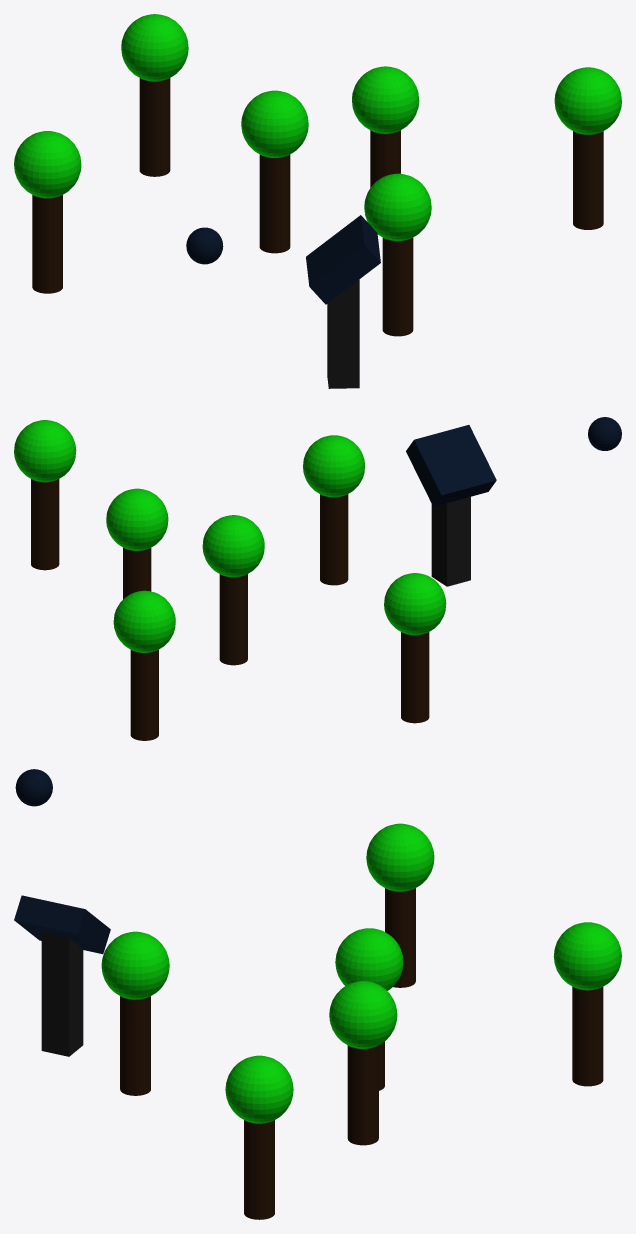
File: exercise20015.obj
3 views of the same model, one above another, from view 1: azimuth 30°, elevation 25°; view 2: azimuth 150°, elevation 25°; view 3: azimuth 270°, elevation 25° (orthographic). The views are drawn at different scales.
Parts seen in each view (by area): view 1: Cube.001, Sphere.003, Sphere.005, Sphere, Sphere.002, Sphere.006, Sphere.004, Cube, Cylinder.002, Cylinder.005, Cylinder.004, Cylinder.003 (+4 smaller); view 2: Cube.001, Cube, Sphere.005, Sphere, Sphere.002, Sphere.006, Sphere.003, Sphere.004, Cylinder.004, Cylinder.006, Cylinder.002, Cylinder.003 (+4 smaller); view 3: Cube, Sphere.003, Sphere.006, Sphere.004, Sphere, Sphere.005, Sphere.002, Cube.001, Cylinder.005, Cylinder, Cylinder.004, Cylinder.003 (+3 smaller).
Part boxes in pixels (x1=…): Cube.001: x1=306, y1=215, x2=380, y2=304; Sphere.003: x1=554, y1=67, x2=621, y2=134; Sphere.005: x1=121, y1=14, x2=188, y2=81; Sphere: x1=352, y1=66, x2=419, y2=133; Sphere.002: x1=241, y1=90, x2=308, y2=157; Sphere.006: x1=14, y1=131, x2=81, y2=198; Sphere.004: x1=364, y1=173, x2=431, y2=240; Cube: x1=327, y1=279, x2=359, y2=388; Cylinder.002: x1=259, y1=154, x2=290, y2=253; Cylinder.005: x1=139, y1=78, x2=170, y2=176; Cylinder.004: x1=382, y1=238, x2=413, y2=336; Cylinder.003: x1=573, y1=131, x2=603, y2=229; Cube.001: x1=406, y1=425, x2=496, y2=506; Cube: x1=431, y1=497, x2=470, y2=586; Sphere.005: x1=113, y1=590, x2=175, y2=652; Sphere: x1=106, y1=488, x2=168, y2=550; Sphere.002: x1=202, y1=515, x2=264, y2=577; Sphere.006: x1=384, y1=573, x2=446, y2=635; Sphere.003: x1=14, y1=420, x2=76, y2=482; Sphere.004: x1=303, y1=435, x2=364, y2=497; Cylinder.004: x1=320, y1=494, x2=348, y2=585; Cylinder.006: x1=401, y1=632, x2=429, y2=723; Cylinder.002: x1=219, y1=574, x2=247, y2=665; Cylinder.003: x1=31, y1=479, x2=59, y2=570; Cube: x1=41, y1=932, x2=83, y2=1056; Sphere.003: x1=225, y1=1055, x2=293, y2=1123; Sphere.006: x1=366, y1=823, x2=434, y2=891; Sphere.004: x1=101, y1=931, x2=169, y2=999; Sphere: x1=329, y1=981, x2=397, y2=1048; Sphere.005: x1=553, y1=922, x2=621, y2=990; Sphere.002: x1=335, y1=928, x2=403, y2=990; Cube.001: x1=14, y1=895, x2=110, y2=954; Cylinder.005: x1=572, y1=986, x2=603, y2=1086; Cylinder: x1=347, y1=1045, x2=378, y2=1145; Cylinder.004: x1=120, y1=996, x2=150, y2=1095; Cylinder.003: x1=244, y1=1120, x2=274, y2=1219.
Size of what is drawn, in the model's own units: 40.53 by 14.35 by 39.13.
